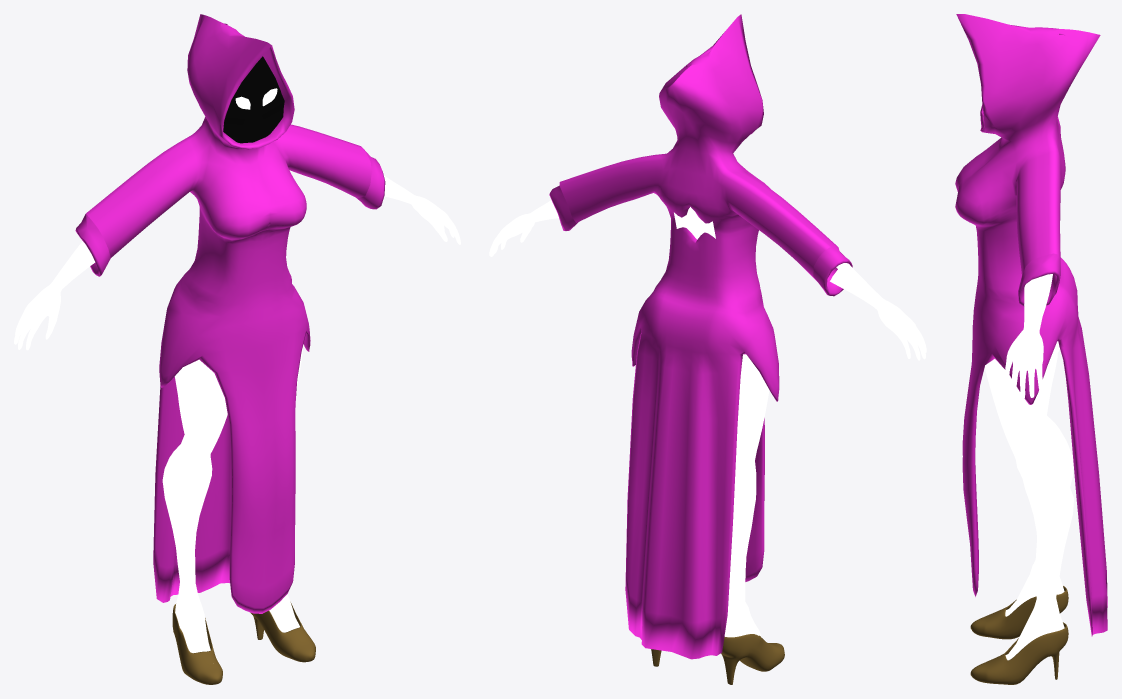
File: PinkPose 1.fbx
3 renders of one model, left to right at view 1: azimuth 30°, elevation 25°; view 2: azimuth 150°, elevation 25°; view 3: azimuth 270°, elevation 25°, orthographic. The views are drawn at different scales.
Visible parts, largest first — view 1: retopo.012; view 2: retopo.012; view 3: retopo.012.
Part boxes in pixels (x1,y1,x2,y2): retopo.012: (14, 14, 460, 684); retopo.012: (489, 14, 926, 684); retopo.012: (955, 14, 1107, 684).
Bounding box in the file's own units: 154 × 213 × 45.53.
